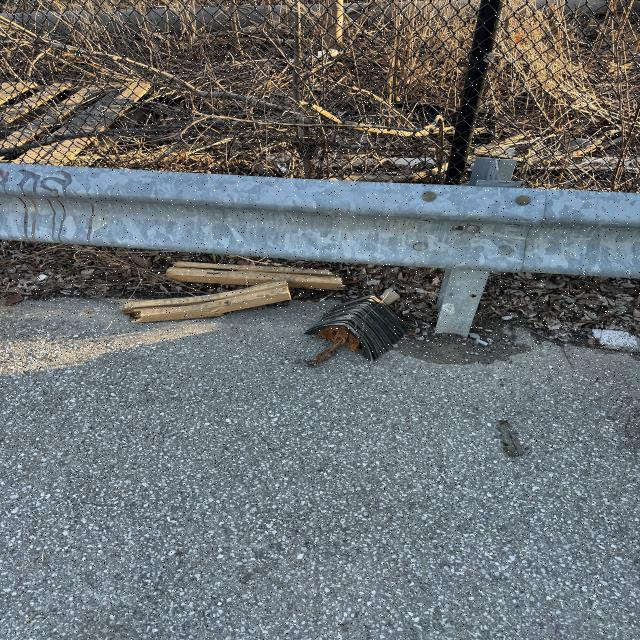Guard rail: (4, 167, 622, 268)
